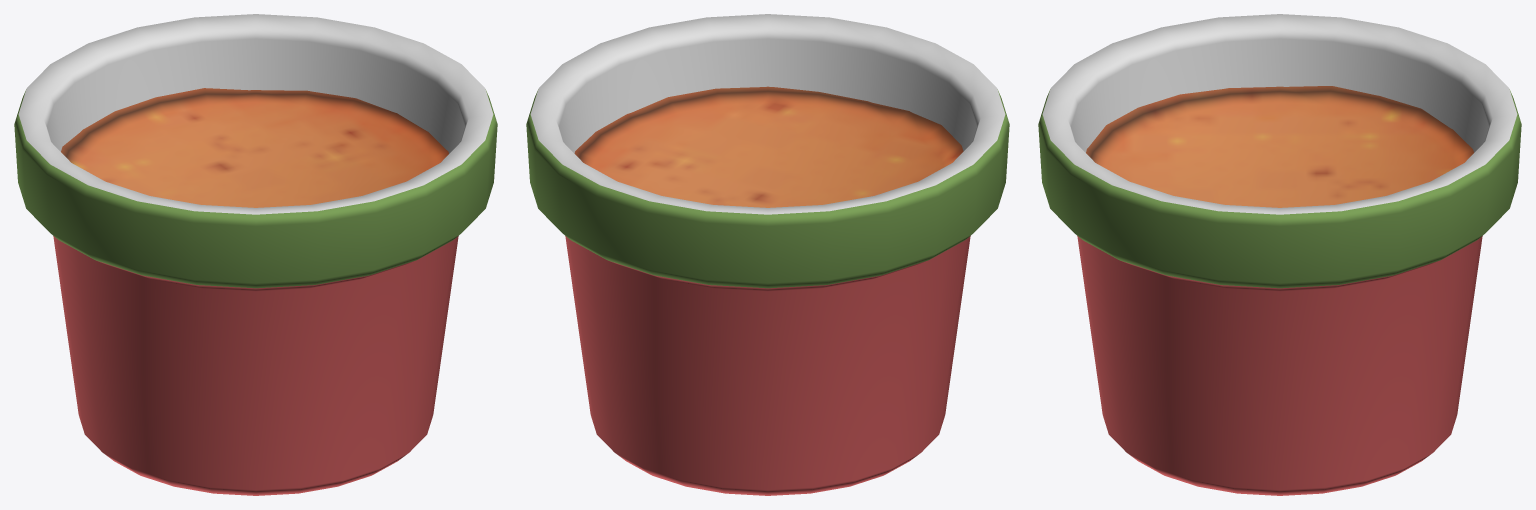
File: pi_cocotteplate05_chilisauce.gltf
3 renders of one model, left to right at view 1: azimuth 30°, elevation 25°; view 2: azimuth 150°, elevation 25°; view 3: azimuth 270°, elevation 25°, orthographic.
Parts seen in each view (by area): view 1: um_pi_cocotteplate05_chilisauce_model_pi_cocotteplate05_chil (×2); view 2: um_pi_cocotteplate05_chilisauce_model_pi_cocotteplate05_chil (×2); view 3: um_pi_cocotteplate05_chilisauce_model_pi_cocotteplate05_chil (×2).
Part boxes in pixels (bbox=[...]): um_pi_cocotteplate05_chilisauce_model_pi_cocotteplate05_chil (×2): bbox=[14, 14, 497, 495]; um_pi_cocotteplate05_chilisauce_model_pi_cocotteplate05_chil (×2): bbox=[526, 14, 1009, 495]; um_pi_cocotteplate05_chilisauce_model_pi_cocotteplate05_chil (×2): bbox=[1038, 14, 1521, 495].
Bounding box in the file's own units: 0.0797 × 0.057 × 0.0797.
2 materials, 2 textured.
